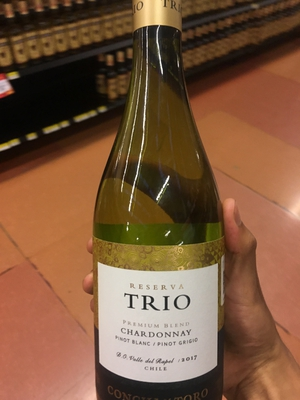trio chardonnay: (88, 35, 236, 396)
